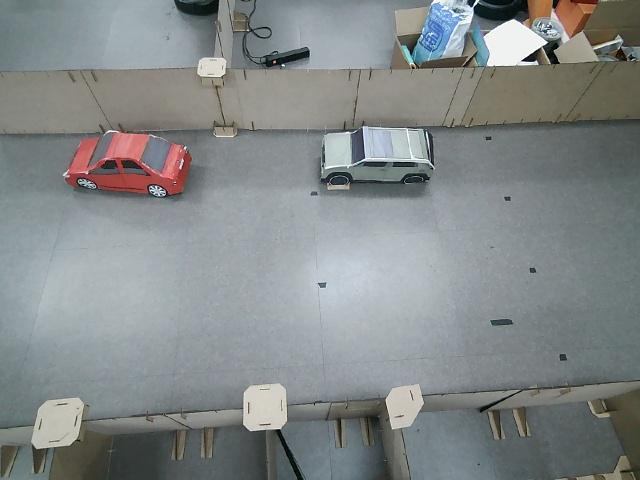car: (57, 131, 206, 201), (316, 122, 446, 197)
